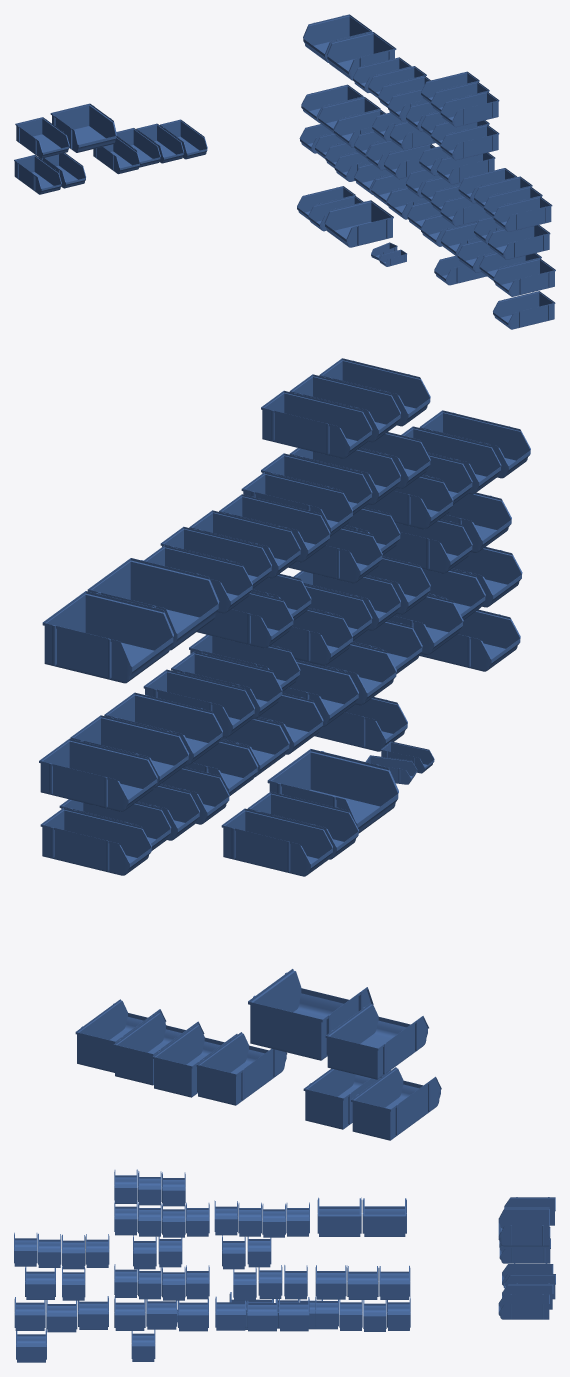
The model's file is Containers.fbx.
3 renders of one model, top to bottom at view 1: azimuth 30°, elevation 25°; view 2: azimuth 150°, elevation 25°; view 3: azimuth 270°, elevation 25°, orthographic. The views are drawn at different scales.
Visible parts, largest first — view 1: Cube.049, Cube.054, Cube.048, Cube.043, Cube.006, Cube.047, Cube.059, Cube.040, Cube.025, Cube.016, Cube.044, Cube.052 (+45 smaller); view 2: Cube.047, Cube.054, Cube.035, Cube.049, Cube.048, Cube.051, Cube.046, Cube.032, Cube.059, Cube.052, Cube.058, Cube.033 (+47 smaller); view 3: Cube.054, Cube.048, Cube.047, Cube.055, Cube.009, Cube.033, Cube.034, Cube.053, Cube.003, Cube.035, Cube.007, Cube.001 (+43 smaller).
Boxes of the visible parts, left/top/right/bottom form: Cube.049: left=324, top=200, right=393, bottom=247; Cube.054: left=50, top=103, right=116, bottom=152; Cube.048: left=327, top=32, right=396, bottom=80; Cube.043: left=493, top=291, right=555, bottom=329; Cube.006: left=493, top=258, right=555, bottom=296; Cube.047: left=303, top=14, right=372, bottom=62; Cube.059: left=15, top=117, right=69, bottom=158; Cube.040: left=488, top=225, right=550, bottom=259; Cube.025: left=493, top=196, right=552, bottom=231; Cube.016: left=440, top=124, right=499, bottom=160; Cube.044: left=440, top=91, right=499, bottom=127; Cube.052: left=14, top=155, right=61, bottom=194; Cube.047: left=42, top=591, right=173, bottom=683; Cube.054: left=248, top=969, right=373, bottom=1060; Cube.035: left=39, top=738, right=157, bottom=811; Cube.049: left=267, top=749, right=398, bottom=833; Cube.048: left=87, top=558, right=219, bottom=650; Cube.051: left=221, top=808, right=332, bottom=876; Cube.046: left=261, top=390, right=372, bottom=458; Cube.032: left=40, top=807, right=151, bottom=875; Cube.059: left=325, top=1003, right=428, bottom=1079; Cube.052: left=351, top=1067, right=441, bottom=1140; Cube.058: left=196, top=1032, right=287, bottom=1105; Cube.033: left=104, top=692, right=222, bottom=765; Cube.054: left=498, top=1207, right=549, bottom=1246; Cube.048: left=317, top=1197, right=361, bottom=1236; Cube.047: left=362, top=1198, right=406, bottom=1236; Cube.055: left=498, top=1294, right=549, bottom=1319; Cube.009: left=278, top=1297, right=309, bottom=1331; Cube.033: left=315, top=1265, right=346, bottom=1299; Cube.034: left=347, top=1265, right=378, bottom=1299; Cube.053: left=499, top=1238, right=550, bottom=1263; Cube.003: left=114, top=1296, right=145, bottom=1330; Cube.035: left=379, top=1265, right=410, bottom=1299; Cube.007: left=215, top=1296, right=246, bottom=1330; Cube.001: left=46, top=1300, right=77, bottom=1332.
Bounding box in the file's own units: 282 × 188 × 532.
